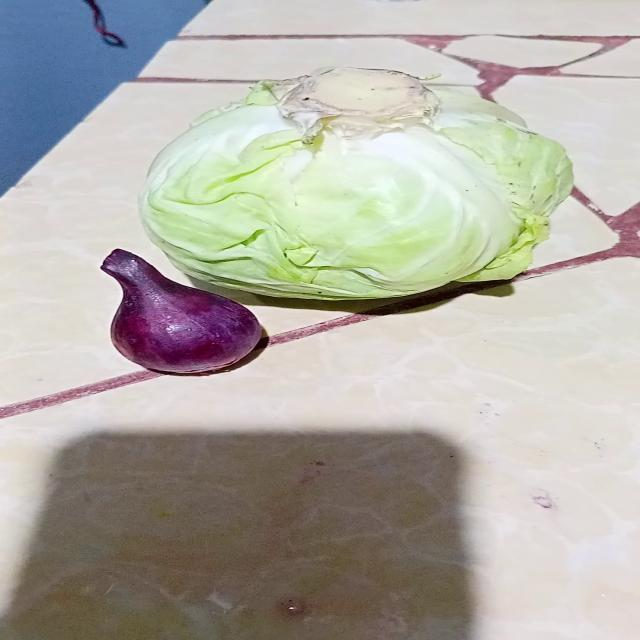cabbage: (140, 67, 574, 300)
onion: (99, 250, 271, 378)
